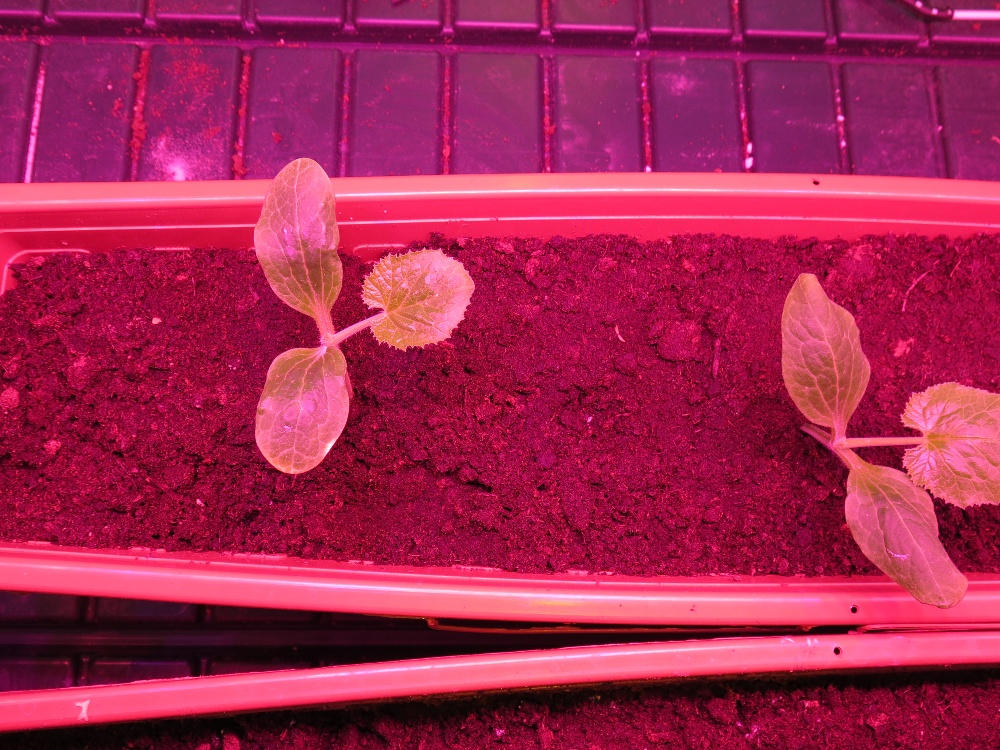crop: (779, 262, 1000, 613), (251, 146, 475, 478)
weed: (613, 322, 626, 345)
